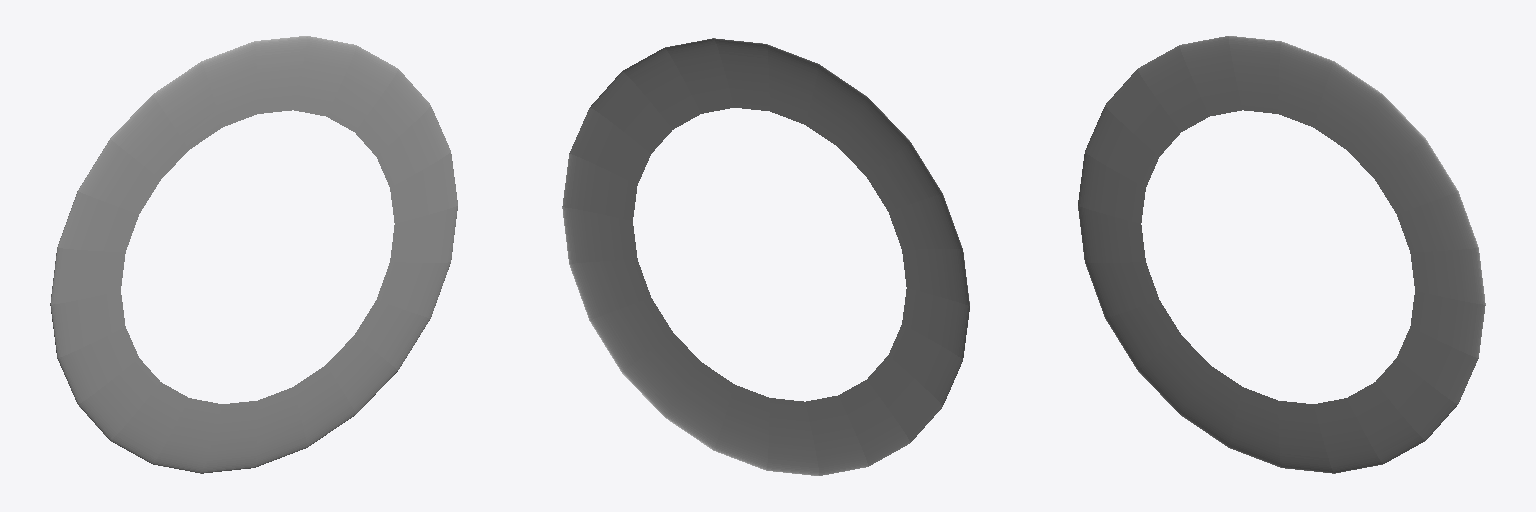
Rendered from saturn_ring.obj.
3 views of the same model, side by side, from view 1: azimuth 30°, elevation 25°; view 2: azimuth 150°, elevation 25°; view 3: azimuth 330°, elevation 25° (orthographic).
Visible parts, largest first — view 1: anneau; view 2: anneau; view 3: anneau.
Boxes of the visible parts, box(x1,y1,x2,y2) form: anneau: box(50, 36, 457, 473); anneau: box(562, 38, 969, 475); anneau: box(1078, 36, 1485, 473).
Size of the model in its own units: 0.5625 by 0.5625 by 0.0086.